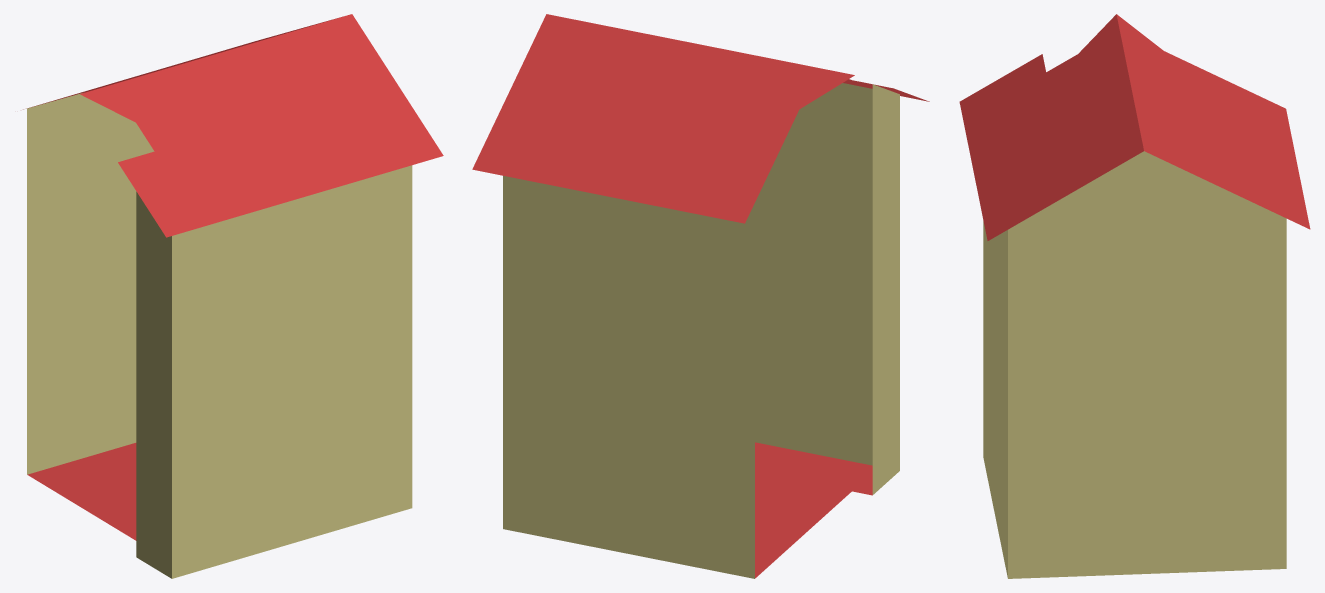
3 renders of one model, left to right at view 1: azimuth 30°, elevation 25°; view 2: azimuth 150°, elevation 25°; view 3: azimuth 270°, elevation 25°, orthographic. The views are drawn at different scales.
Size of the model in its own units: 7.59 by 7.89 by 10.73.
